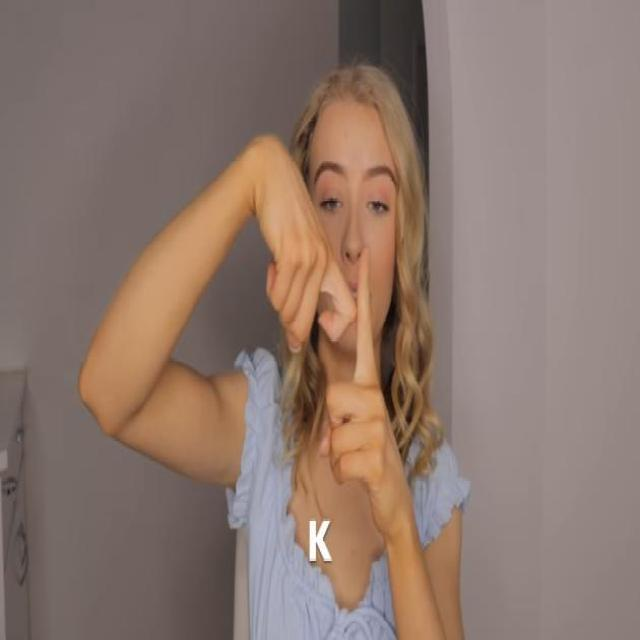K: (264, 234, 401, 500)
